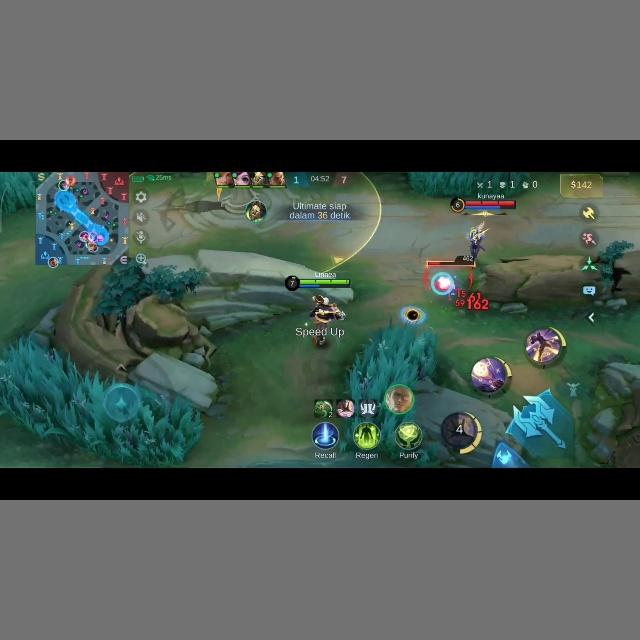hero_enemy: (467, 224, 487, 264)
hero_self: (309, 295, 346, 346)
hp_enemy: (449, 197, 517, 213)
hp_self: (297, 278, 349, 286)
jungle-monstr: (424, 274, 472, 300), (430, 271, 457, 302)
